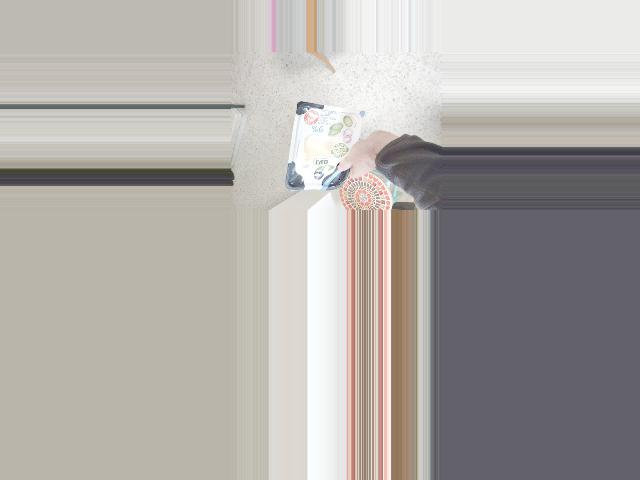cheese: (308, 104, 377, 174)
